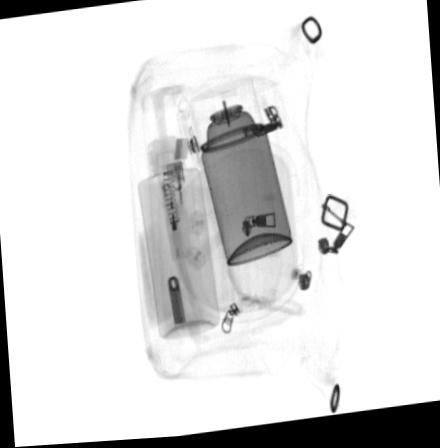Lighter: (162, 162, 190, 235)
Sprayer: (188, 80, 292, 268)
